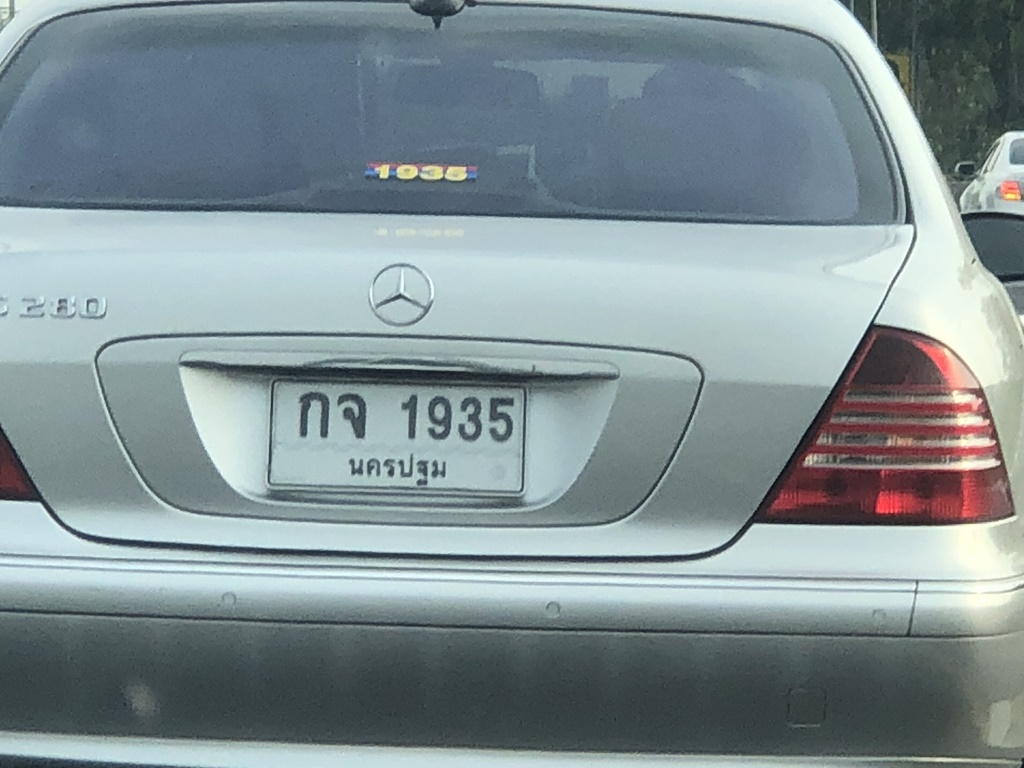five: (479, 389, 523, 450)
nine: (424, 389, 456, 444)
one: (388, 386, 425, 443)
three: (452, 388, 485, 452)
